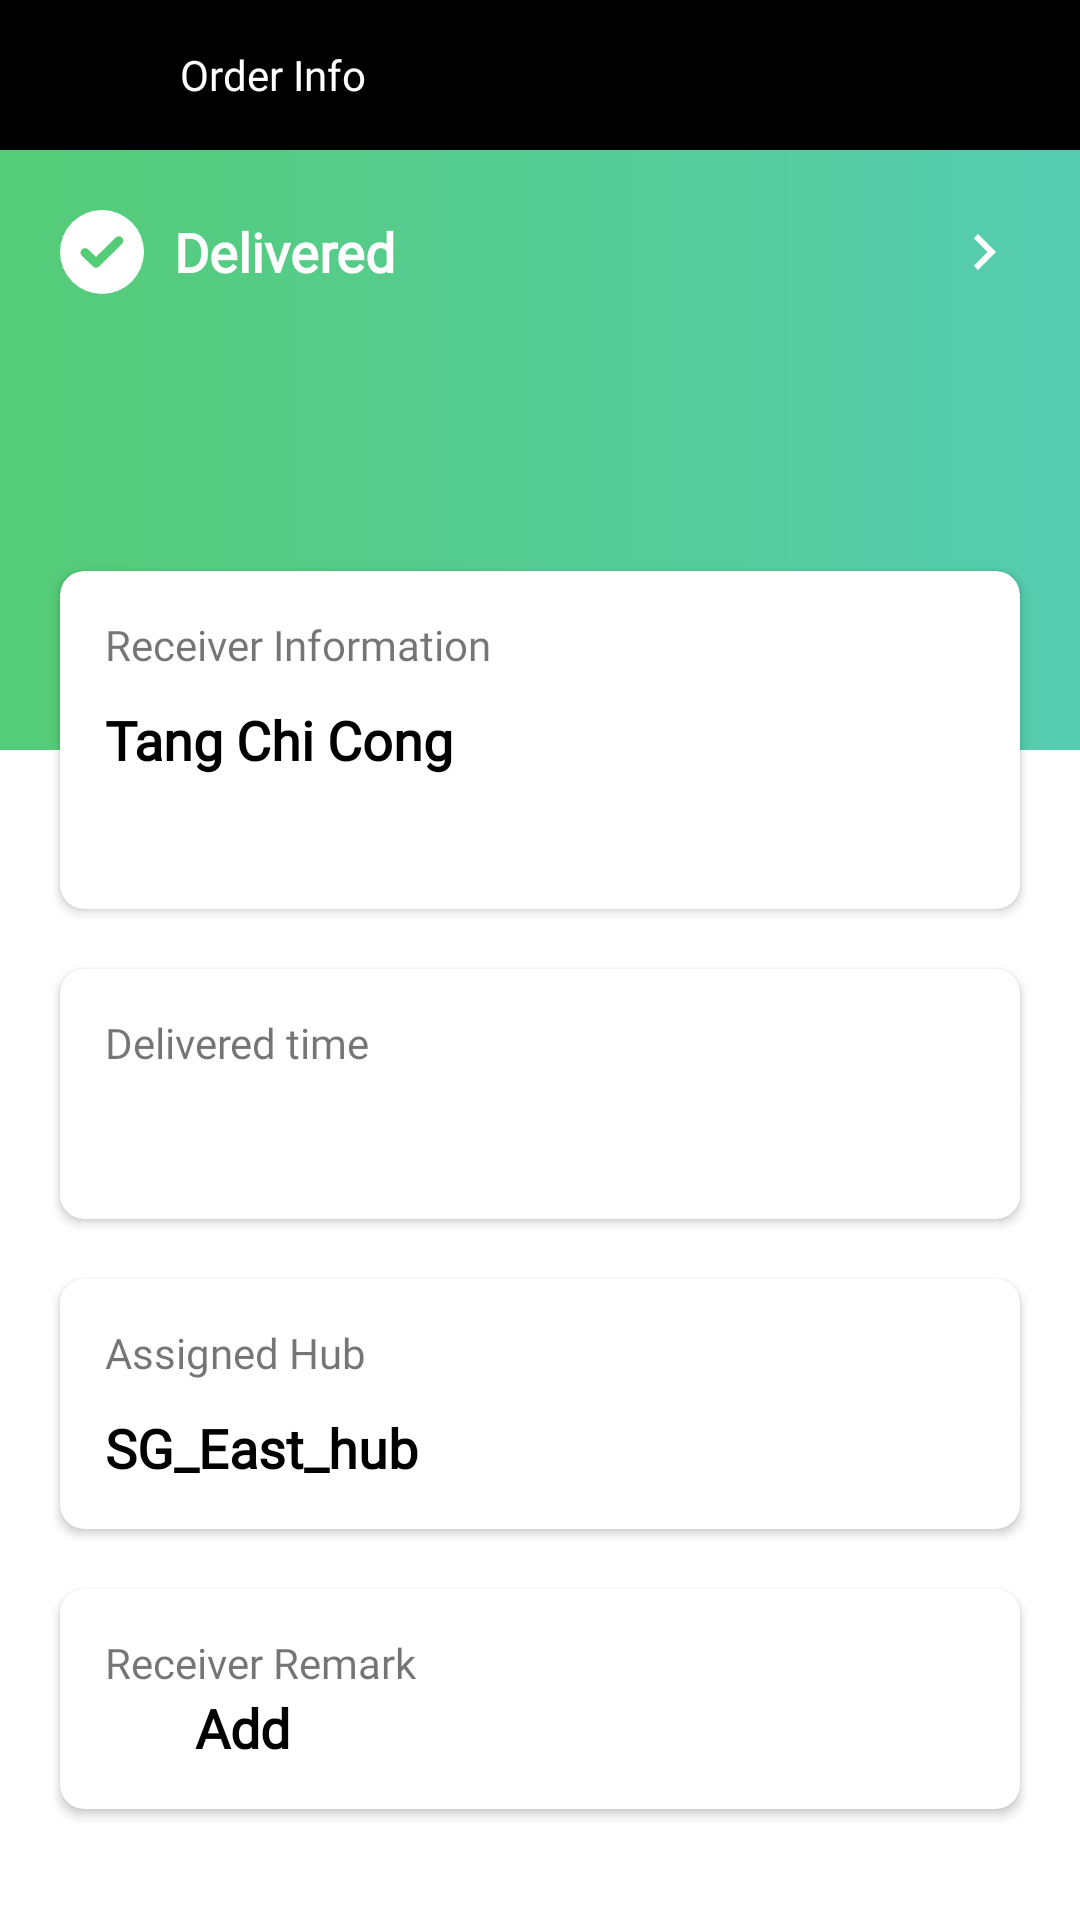

Point at icon controls on the screen. Image size 1080x1920, points as point (x, y).
check sign: point (102, 252)
right arrow: point (985, 252)
